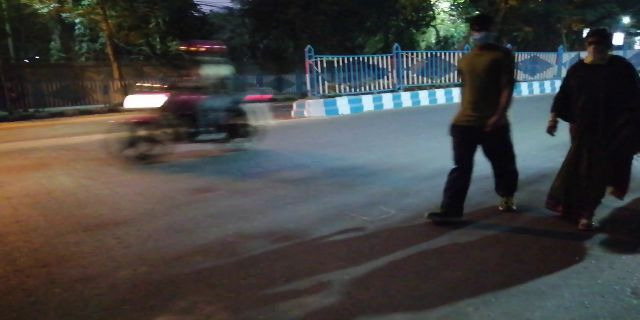Motorbike: (98, 35, 271, 157)
